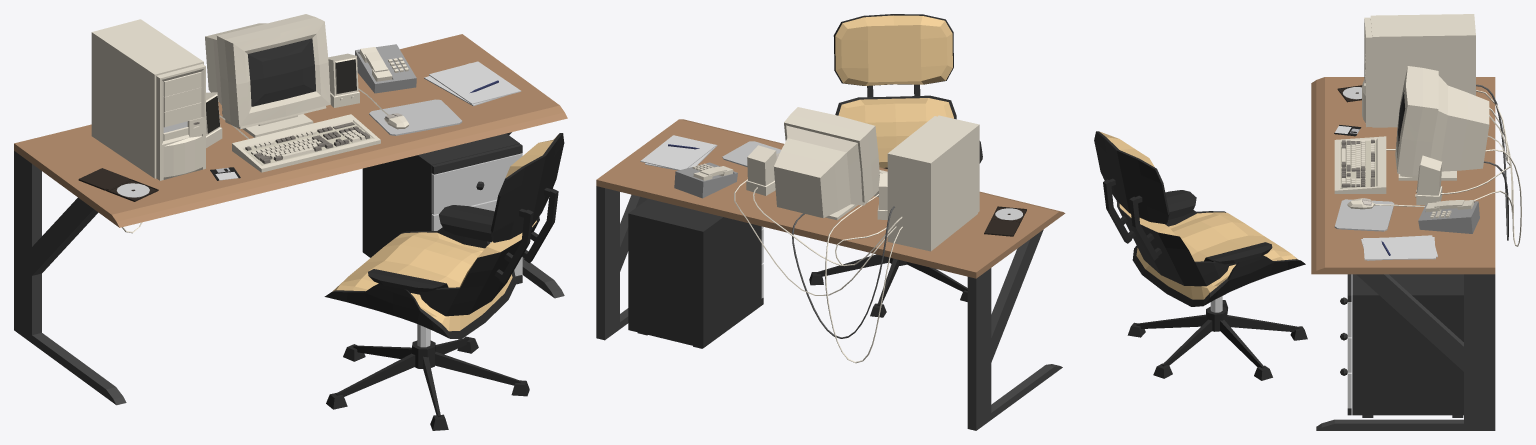
The model's file is computer-optimizeded.glb.
The picture shows the model from 3 angles, left to right: view 1: azimuth 30°, elevation 25°; view 2: azimuth 150°, elevation 25°; view 3: azimuth 270°, elevation 25°; orthographic projection. The views are drawn at different scales.
Parts seen in each view (by area): view 1: Cube.000_ComputerDesk_0.001; view 2: Cube.000_ComputerDesk_0.001; view 3: Cube.000_ComputerDesk_0.001.
Part boxes in pixels (left/top/right/bottom): Cube.000_ComputerDesk_0.001: left=14, top=14, right=567, bottom=430; Cube.000_ComputerDesk_0.001: left=596, top=14, right=1065, bottom=430; Cube.000_ComputerDesk_0.001: left=1094, top=14, right=1521, bottom=430.
Bounding box in the file's own units: 188 × 116 × 178.
Materials: 2 (2 with a texture image).
